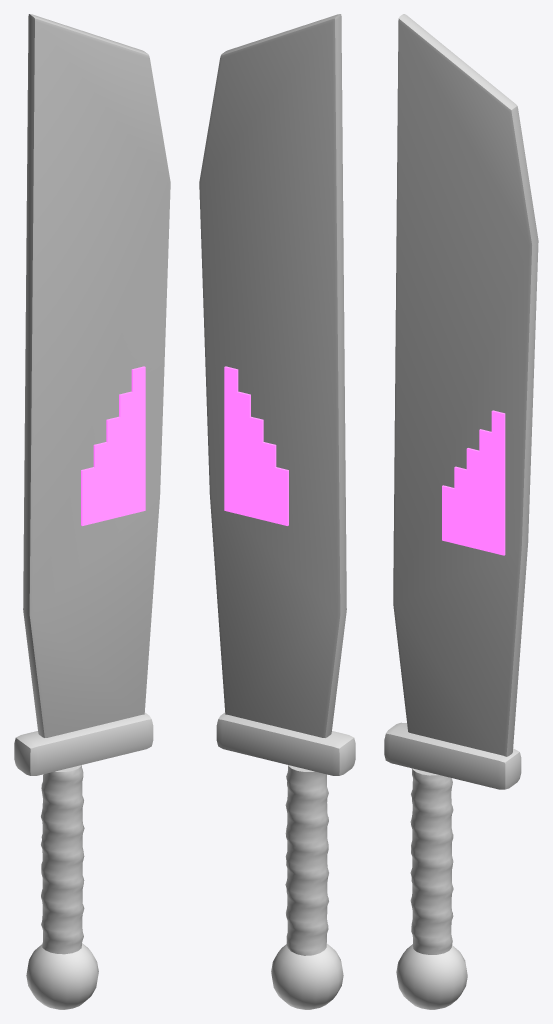
Rendered from ratings_cleaver.glb.
The picture shows the model from 3 angles, left to right: view 1: azimuth 30°, elevation 25°; view 2: azimuth 150°, elevation 25°; view 3: azimuth 330°, elevation 25°; orthographic projection.
Parts seen in each view (by area): view 1: ratings_cleaver; view 2: ratings_cleaver; view 3: ratings_cleaver.
Boxes of the visible parts, x1=… form: ratings_cleaver: x1=14, y1=14, x2=170, y2=1009; ratings_cleaver: x1=199, y1=14, x2=355, y2=1009; ratings_cleaver: x1=384, y1=14, x2=538, y2=1009.
Size of the model in its own units: 0.14 by 0.9042 by 0.06.
